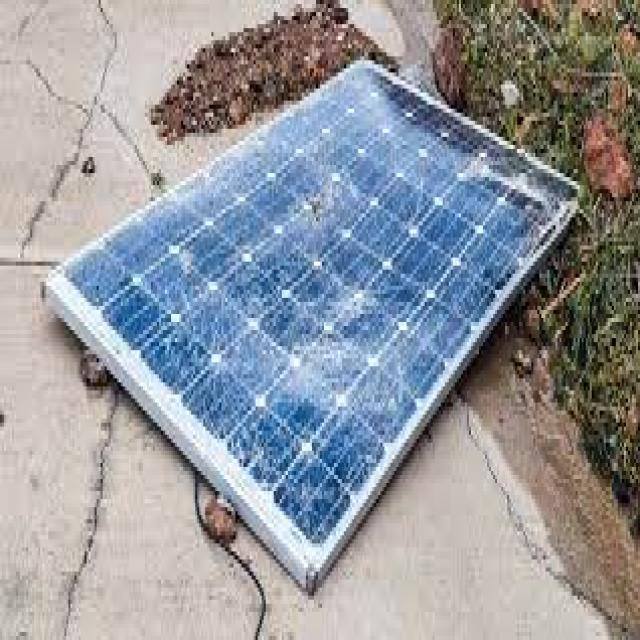faulty: (48, 53, 582, 585)
